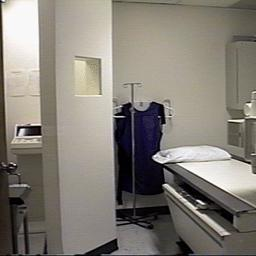Cama: (155, 151, 254, 252)
